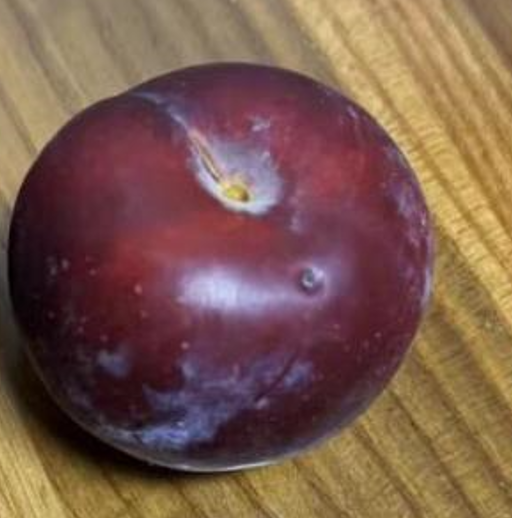plum_B: (8, 62, 435, 473)
